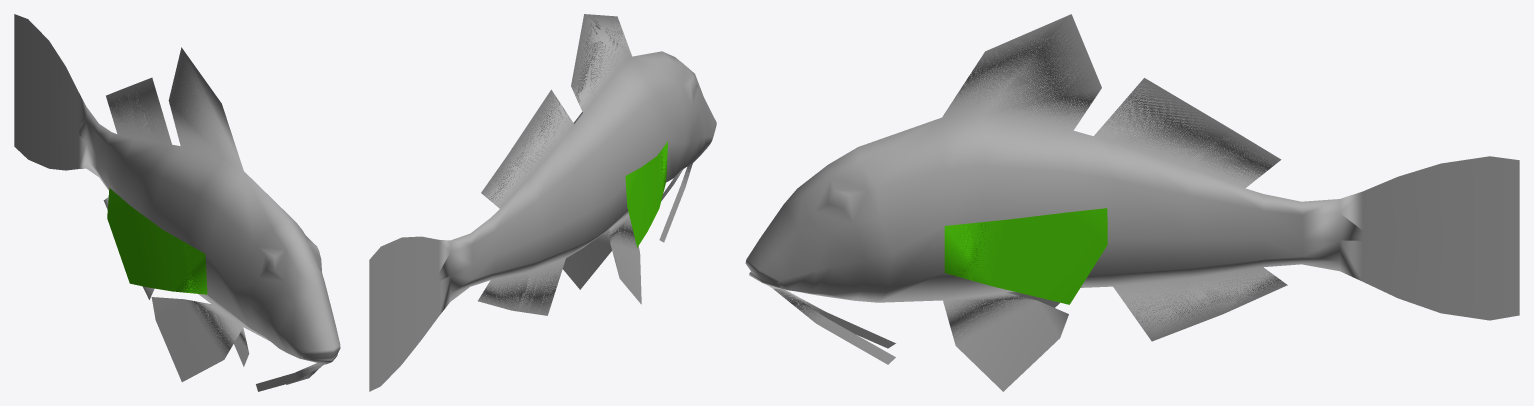
File: Mullidae_A_S.fbx
3 renders of one model, left to right at view 1: azimuth 30°, elevation 25°; view 2: azimuth 150°, elevation 25°; view 3: azimuth 270°, elevation 25°, orthographic. The views are drawn at different scales.
Visible parts, largest first — view 1: Mullidae_A_S_Mesh; view 2: Mullidae_A_S_Mesh; view 3: Mullidae_A_S_Mesh.
Boxes of the visible parts, left/top/right/bottom form: Mullidae_A_S_Mesh: left=14, top=14, right=340, bottom=391; Mullidae_A_S_Mesh: left=369, top=14, right=716, bottom=391; Mullidae_A_S_Mesh: left=745, top=14, right=1519, bottom=391.
Bounding box in the file's own units: 0.00208 × 0.00516 × 0.0101.
